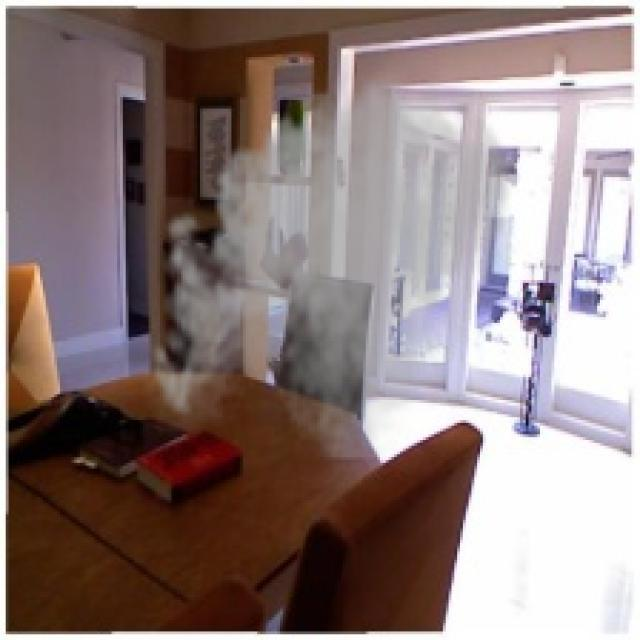Smoke: (140, 60, 520, 463)
